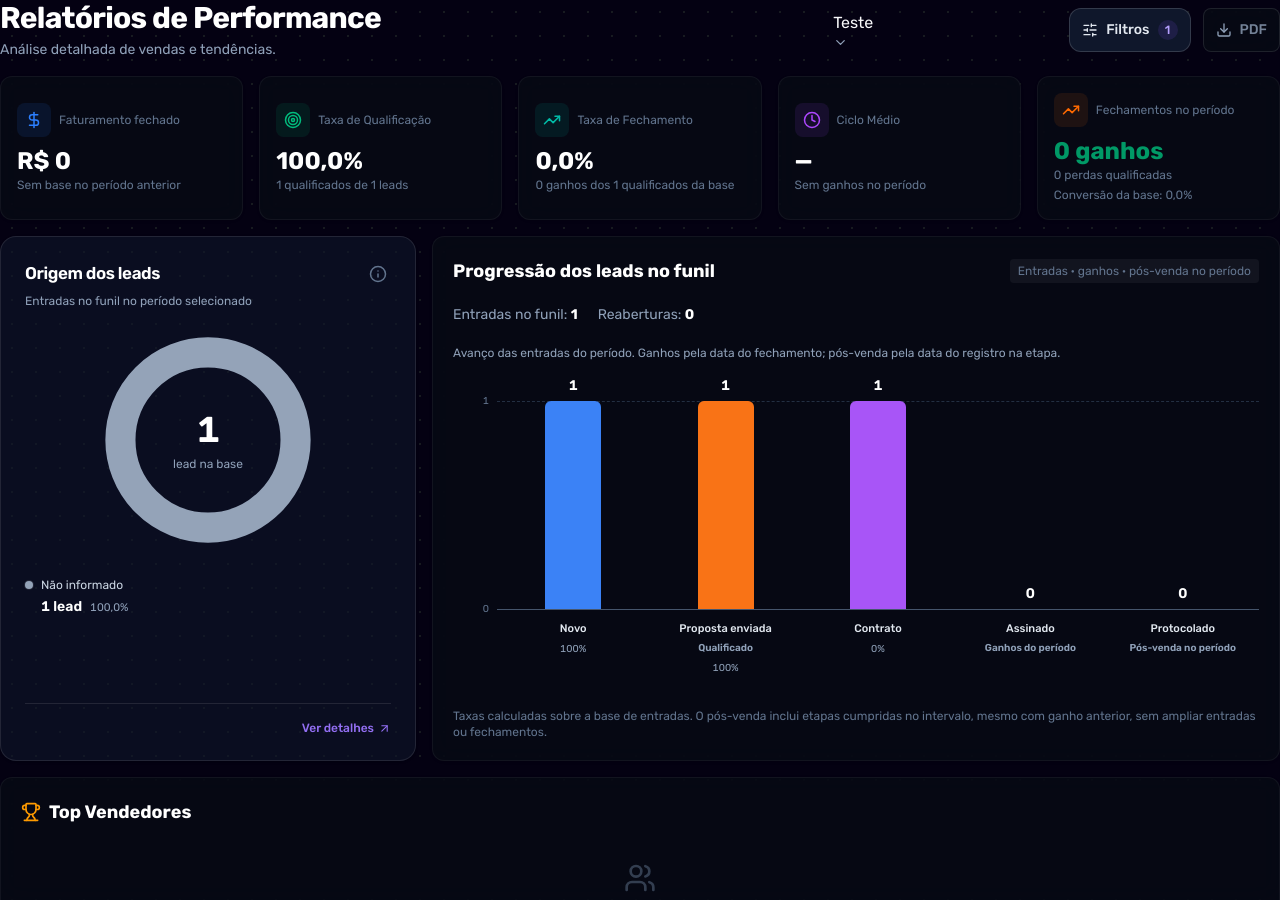
Test: tela Performance › o gráfico preserva a base de entradas e detalha saltos sem adicionar leads antigos
The image size is (1280, 900).
expect the button "Entradas no funil: 1" is shown: met, box [453, 301, 578, 329]
Click the button with aria-label "Ver 1 leads em Proposta enviada" at (726, 528), box [653, 373, 798, 684]
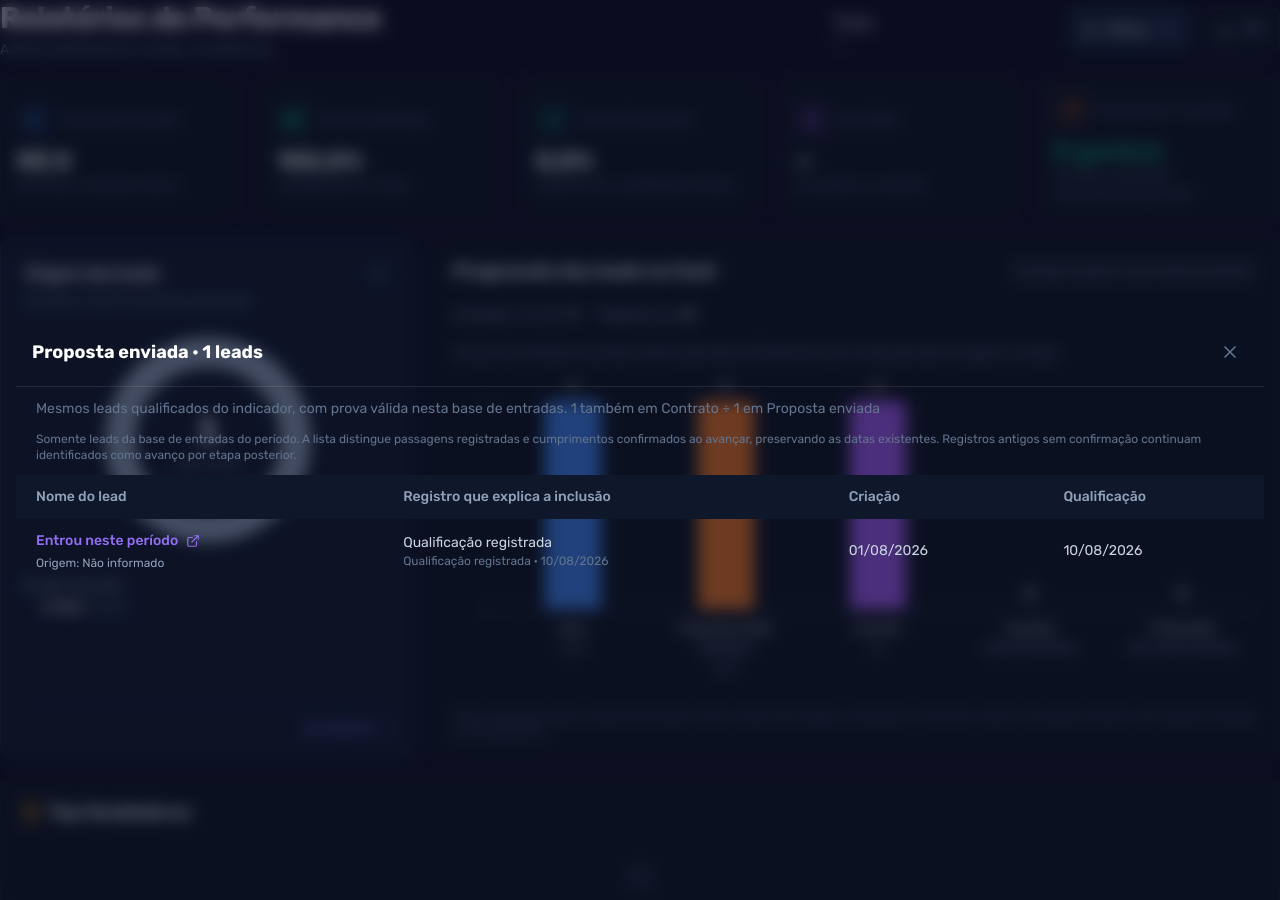
expect the number of links is 1: met, box [36, 530, 200, 550]
expect the column heading "Registro que explica a inclusão" is shown: met, box [383, 474, 829, 518]
